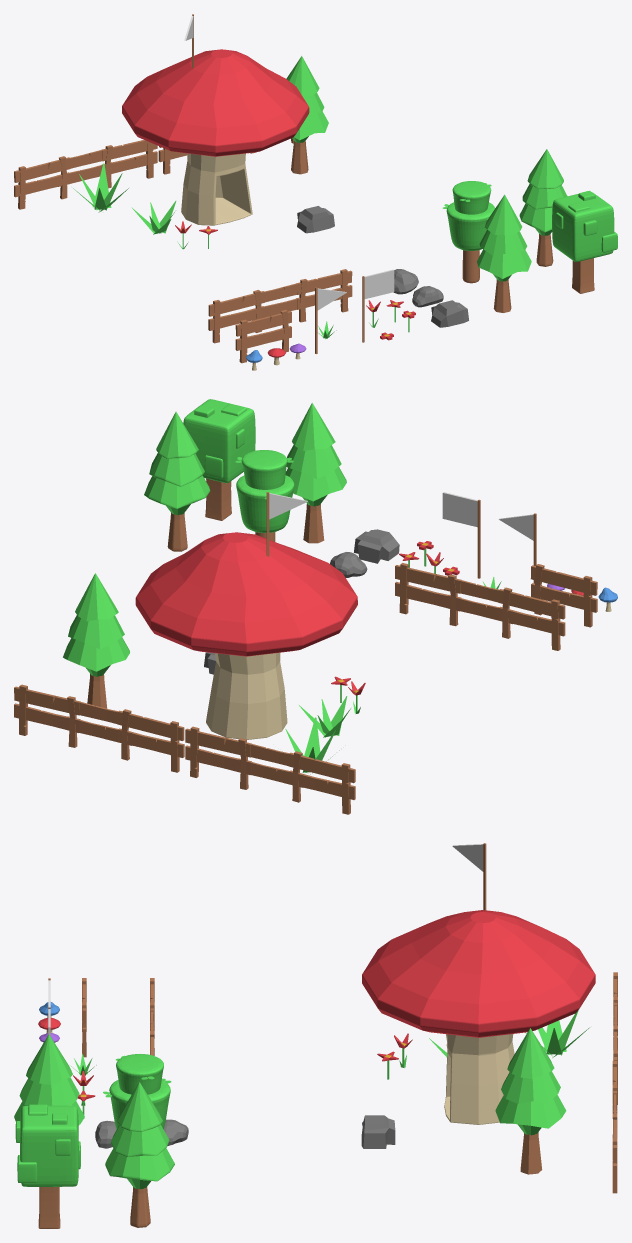
File: AssetsLP.fbx
The picture shows the model from 3 angles, top to bottom: view 1: azimuth 30°, elevation 25°; view 2: azimuth 150°, elevation 25°; view 3: azimuth 270°, elevation 25°; orthographic projection. The views are drawn at different scales.
Parts seen in each view (by area): view 1: ShroomHouse, Sample, Tree2, Fence.001, Tree, Tree3, Tree4, Fence, Flag1, Rock, Flag2, Rock.001 (+1 smaller); view 2: ShroomHouse, Sample, Fence.001, Tree2, Tree4, Tree, Tree3, Fence, Flag1, Rock, Flag2, Rock.001; view 3: ShroomHouse, Sample, Tree2, Tree4, Tree, Tree3.
Boxes of the visible parts, bbox=[...] form: ShroomHouse: bbox=[122, 49, 309, 225]; Sample: bbox=[14, 14, 334, 249]; Tree2: bbox=[552, 190, 617, 293]; Fence.001: bbox=[208, 269, 352, 343]; Tree: bbox=[477, 194, 531, 312]; Tree3: bbox=[442, 181, 495, 283]; Tree4: bbox=[519, 149, 567, 266]; Fence: bbox=[235, 309, 291, 363]; Flag1: bbox=[362, 269, 394, 342]; Rock: bbox=[431, 300, 468, 327]; Flag2: bbox=[315, 287, 346, 353]; Rock.001: bbox=[412, 286, 443, 307]; ShroomHouse: bbox=[135, 532, 357, 739]; Sample: bbox=[14, 492, 365, 814]; Fence.001: bbox=[395, 563, 565, 650]; Tree2: bbox=[183, 399, 255, 520]; Tree4: bbox=[144, 411, 210, 551]; Tree: bbox=[285, 403, 346, 543]; Tree3: bbox=[235, 450, 294, 541]; Fence: bbox=[530, 564, 597, 627]; Flag1: bbox=[442, 492, 480, 578]; Rock: bbox=[354, 529, 399, 563]; Flag2: bbox=[499, 513, 536, 583]; Rock.001: bbox=[330, 552, 367, 577]; ShroomHouse: bbox=[362, 910, 595, 1124]; Sample: bbox=[361, 843, 617, 1193]; Tree2: bbox=[15, 1104, 80, 1228]; Tree4: bbox=[105, 1082, 174, 1227]; Tree: bbox=[14, 1034, 84, 1125]; Tree3: bbox=[103, 1054, 171, 1129].
Size of the model in its own units: 4643 by 2477 by 5336.
